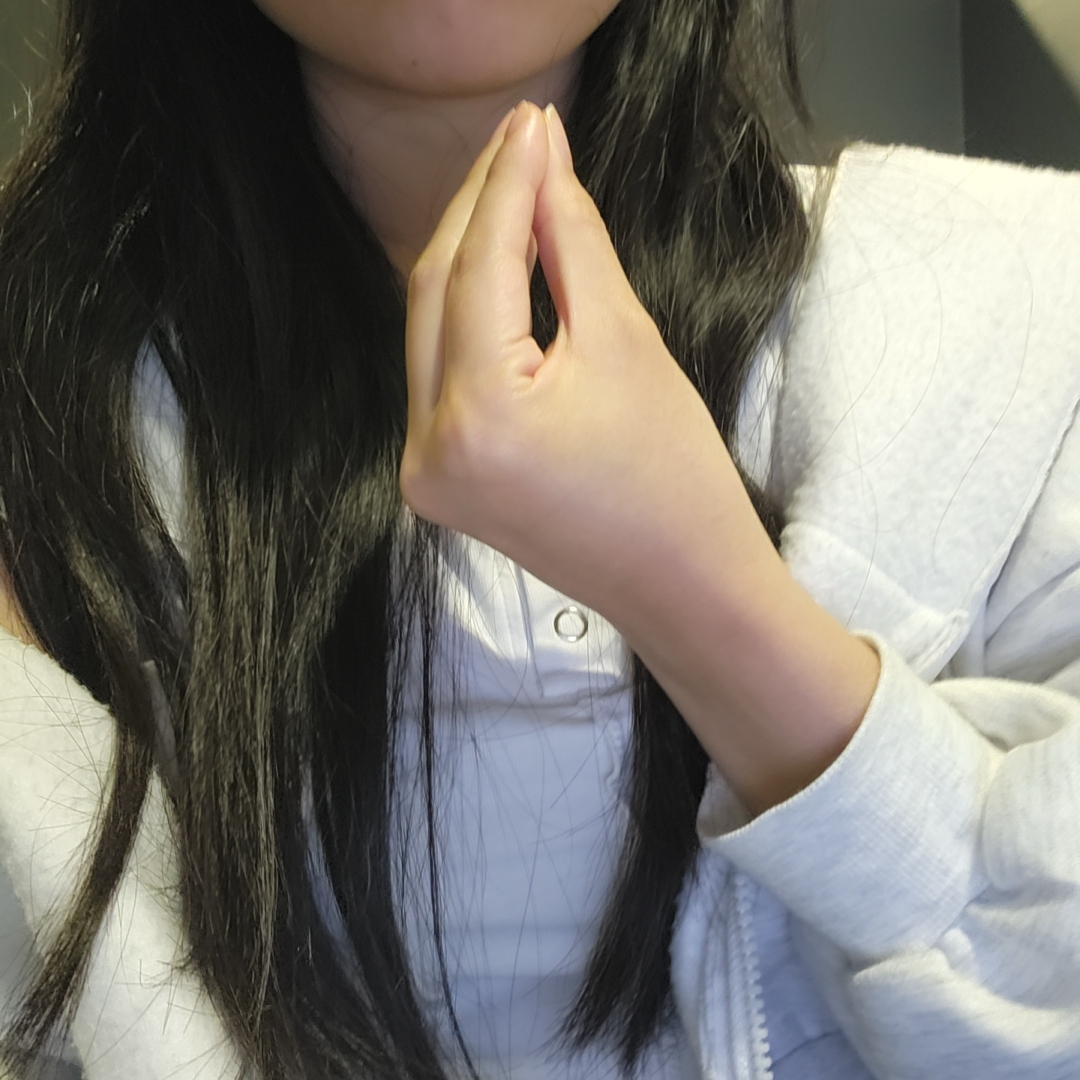happy: (397, 101, 726, 628)
